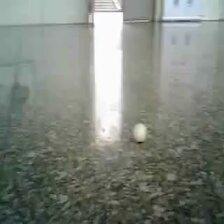w: (132, 122, 150, 144)
